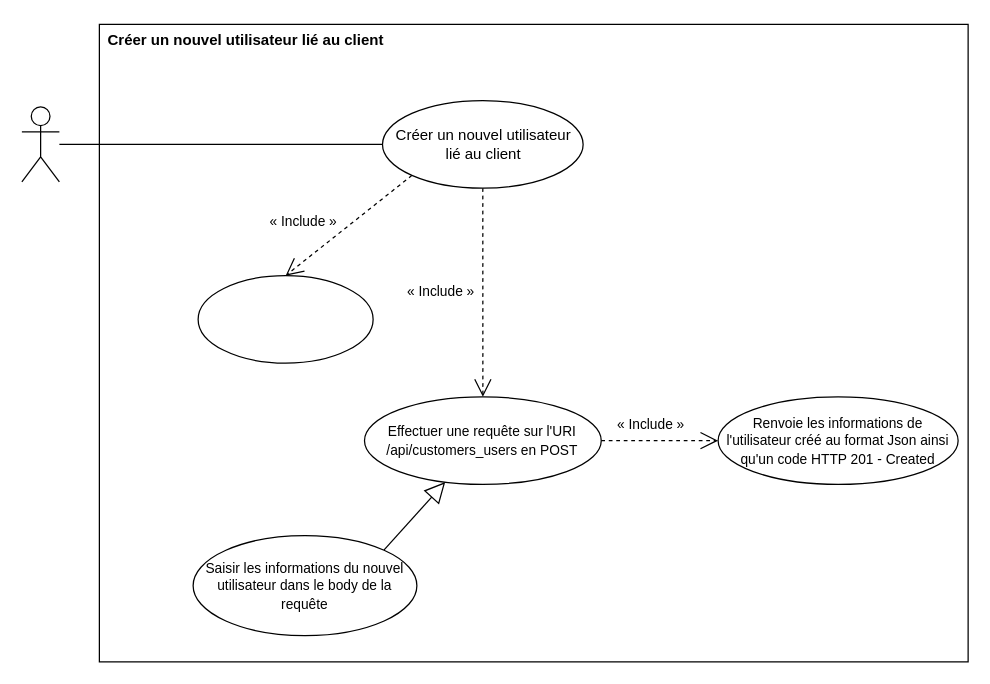
Image size: 990x684. Some labels were removed from this diagram. The centre of each missing label's shape, as x and y in pixels:
"Client" belongs at (40,144).
"S'authentifier sur l'API BileMo" belongs at (285,318).
